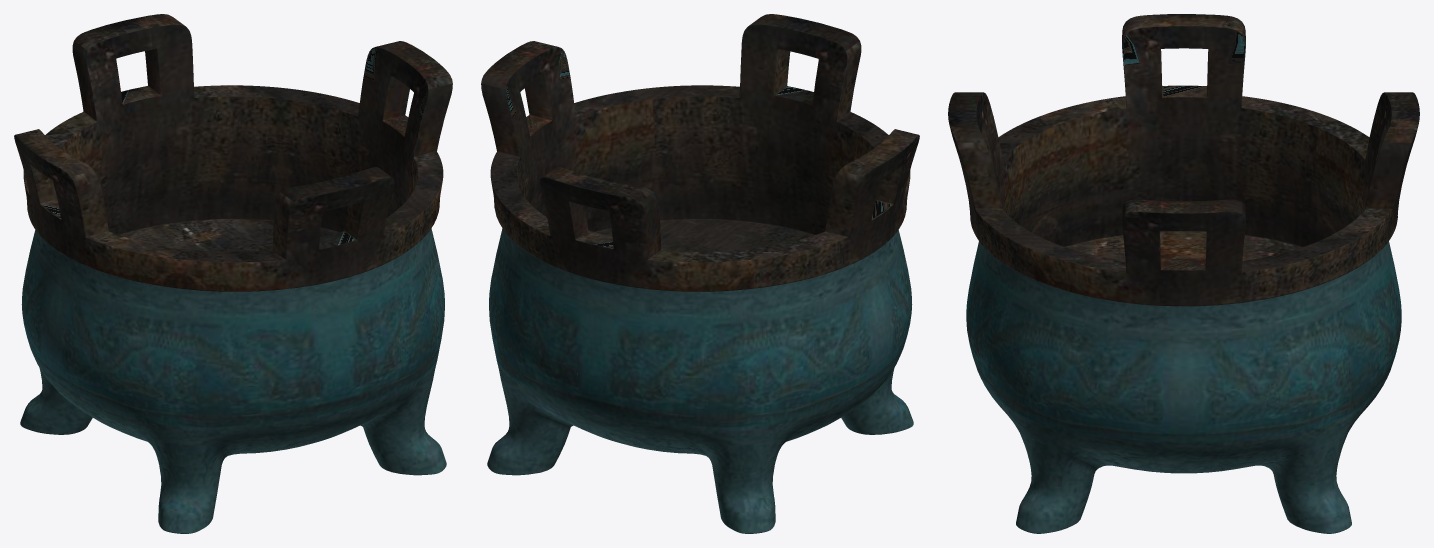
File: incense_ding.glb
3 views of the same model, side by side, from view 1: azimuth 30°, elevation 25°; view 2: azimuth 150°, elevation 25°; view 3: azimuth 270°, elevation 25° (orthographic). The views are drawn at different scales.
Visible parts, largest first — view 1: Ding_Baked_Ding_Bake1_baked_0; view 2: Ding_Baked_Ding_Bake1_baked_0; view 3: Ding_Baked_Ding_Bake1_baked_0.
Boxes of the visible parts, box(x1,y1,x2,y2) form: Ding_Baked_Ding_Bake1_baked_0: box(14, 14, 452, 533); Ding_Baked_Ding_Bake1_baked_0: box(481, 14, 919, 533); Ding_Baked_Ding_Bake1_baked_0: box(948, 14, 1419, 533).
Bounding box in the file's own units: 1.35 × 1.1 × 1.35.
Materials: 1 (1 with a texture image).
